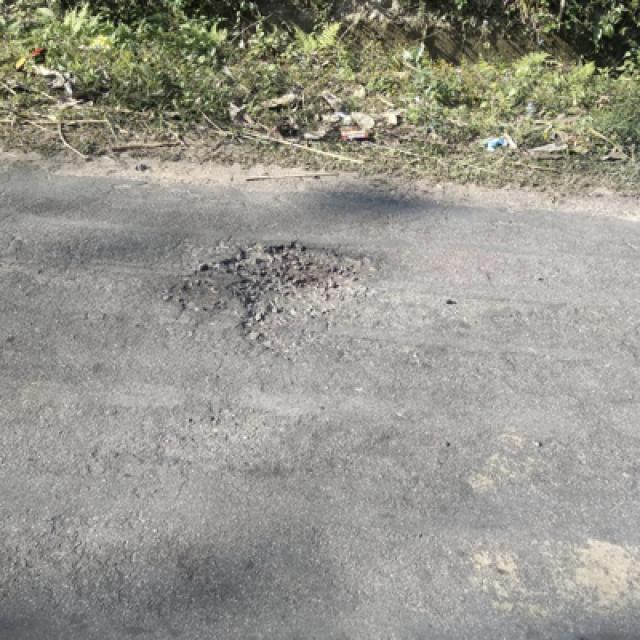jalan_berlubang: (197, 244, 377, 314)
